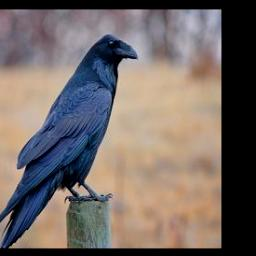Crow: (0, 31, 141, 248)
